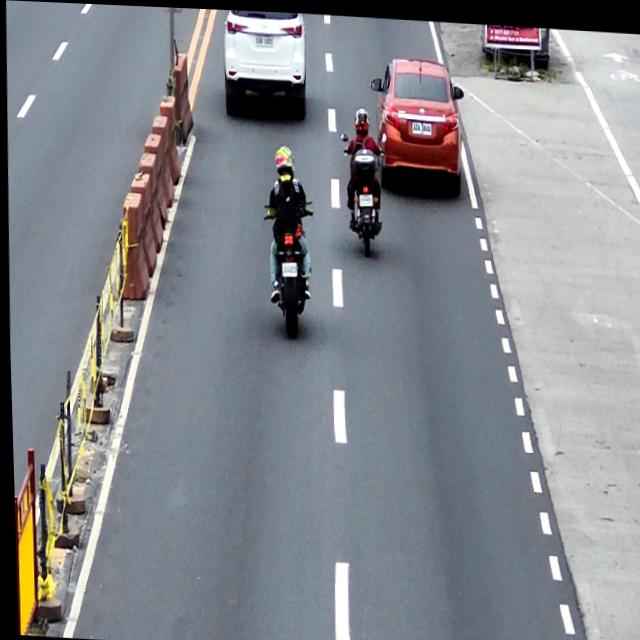Car: (366, 51, 466, 194), (220, 8, 307, 117)
License-Plate: (411, 117, 431, 130), (254, 31, 272, 45), (280, 259, 296, 274), (358, 189, 372, 204)
Motorcycle: (262, 195, 314, 339), (338, 128, 384, 254)
